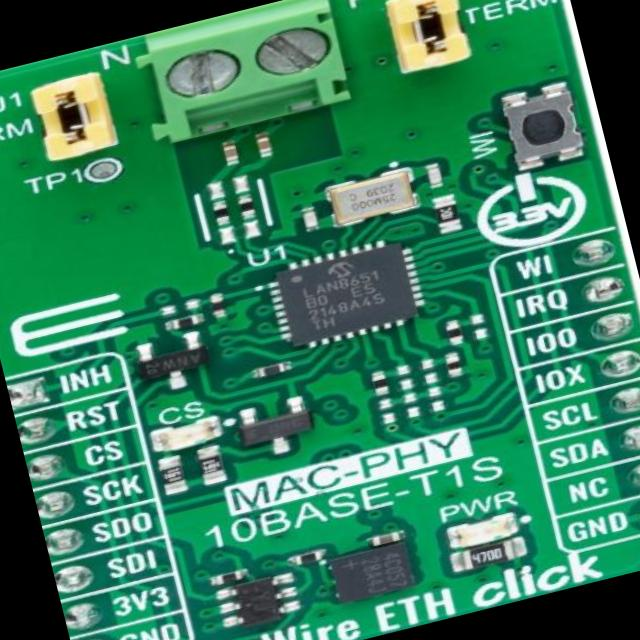IC: (270, 236, 427, 350), (327, 540, 414, 608), (222, 576, 290, 628)
LED: (452, 511, 514, 550), (156, 417, 225, 452)
capacitor: (222, 142, 240, 162), (256, 134, 274, 154)
connector: (140, 0, 355, 144), (27, 71, 118, 166), (385, 0, 473, 79)
resistor: (461, 538, 516, 572), (196, 448, 228, 480), (436, 198, 466, 231), (254, 360, 292, 384), (209, 567, 247, 589), (164, 313, 205, 333), (161, 460, 188, 488), (208, 292, 231, 318), (291, 547, 320, 567), (370, 531, 400, 548), (442, 322, 464, 344), (444, 354, 464, 373), (301, 211, 319, 231), (373, 373, 390, 392), (239, 196, 255, 216), (213, 205, 230, 221), (426, 168, 442, 185)
transistor: (126, 328, 220, 401), (234, 392, 322, 462)
